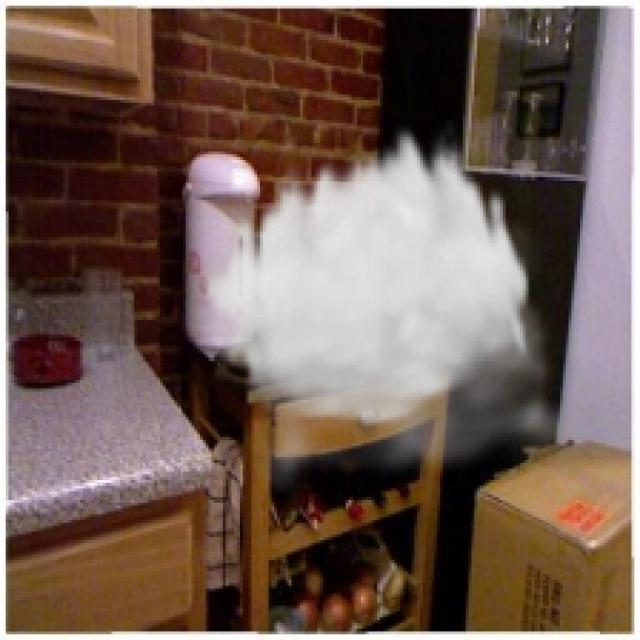Smoke: (200, 120, 603, 500)
